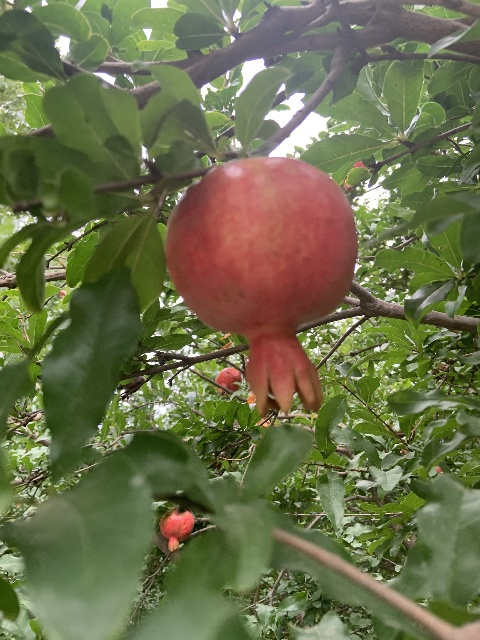ripe: (164, 155, 358, 413), (159, 509, 194, 551), (215, 366, 242, 395)
